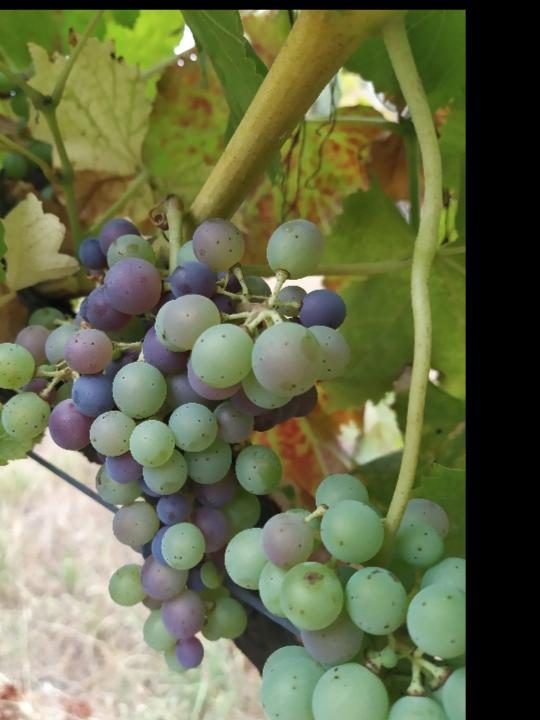grape: (0, 214, 352, 680)
